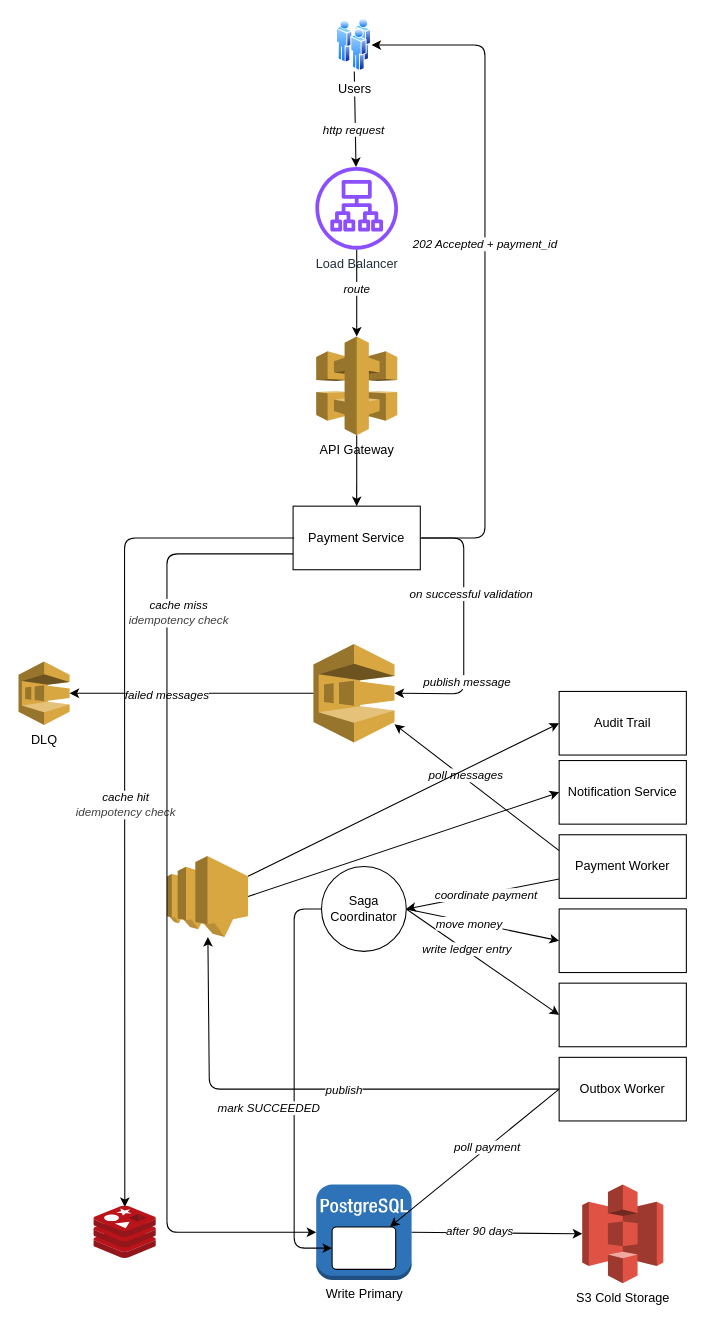
Image size: 705x1323. Some labels were removed from this diagram. The shapes that lost their labels are listed below. From the top down, each one's centre as x and y in pixels, then its label:
the point at 353,693: SQS
the point at 207,896: SNS
the point at 622,940: Payment Gateway
the point at 622,1014: Ledger System
the point at 124,1231: Redis Cache
the point at 363,1247: Payment Status
